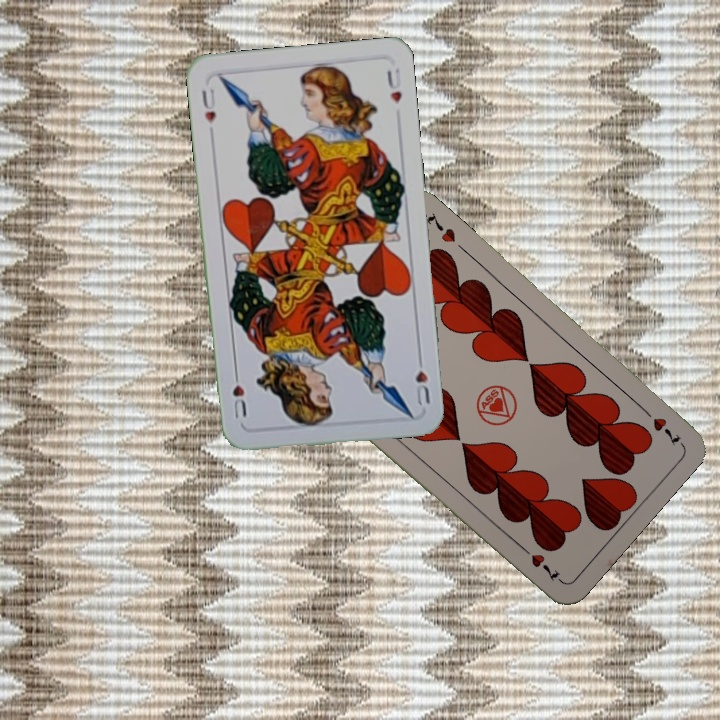H7: (636, 402, 684, 448)
HU: (411, 350, 432, 408), (197, 84, 218, 138)
